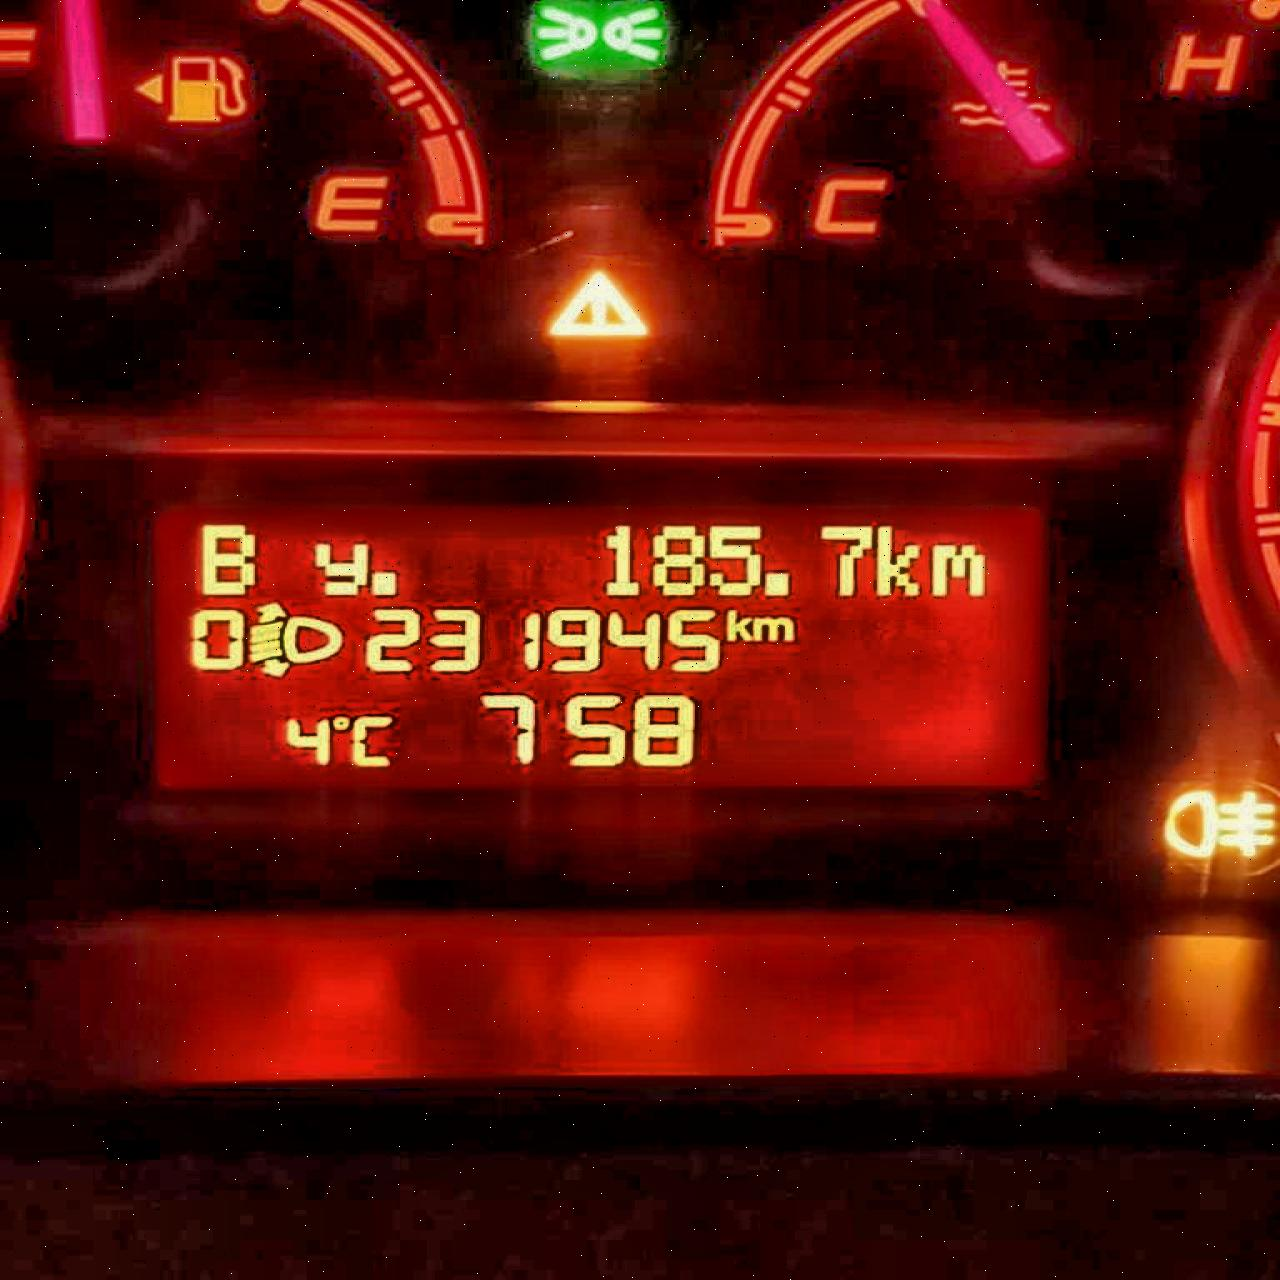-: (761, 570, 791, 598), (367, 570, 399, 595)
0: (185, 607, 245, 670)
1: (597, 522, 641, 597), (520, 608, 542, 672)
2: (363, 607, 420, 673)
3: (427, 606, 481, 673)
4: (604, 610, 660, 670), (280, 716, 332, 768)
5: (558, 693, 627, 769), (707, 523, 763, 598), (663, 607, 720, 673)
7: (474, 693, 537, 765), (817, 523, 873, 599)
8: (628, 693, 696, 768), (648, 524, 704, 598)
9: (545, 606, 601, 673)
X: (196, 522, 257, 597), (872, 524, 924, 598), (926, 543, 987, 599), (312, 540, 370, 595), (347, 714, 393, 768), (751, 613, 795, 642), (723, 607, 751, 642)
odometer: (143, 497, 1051, 797)
